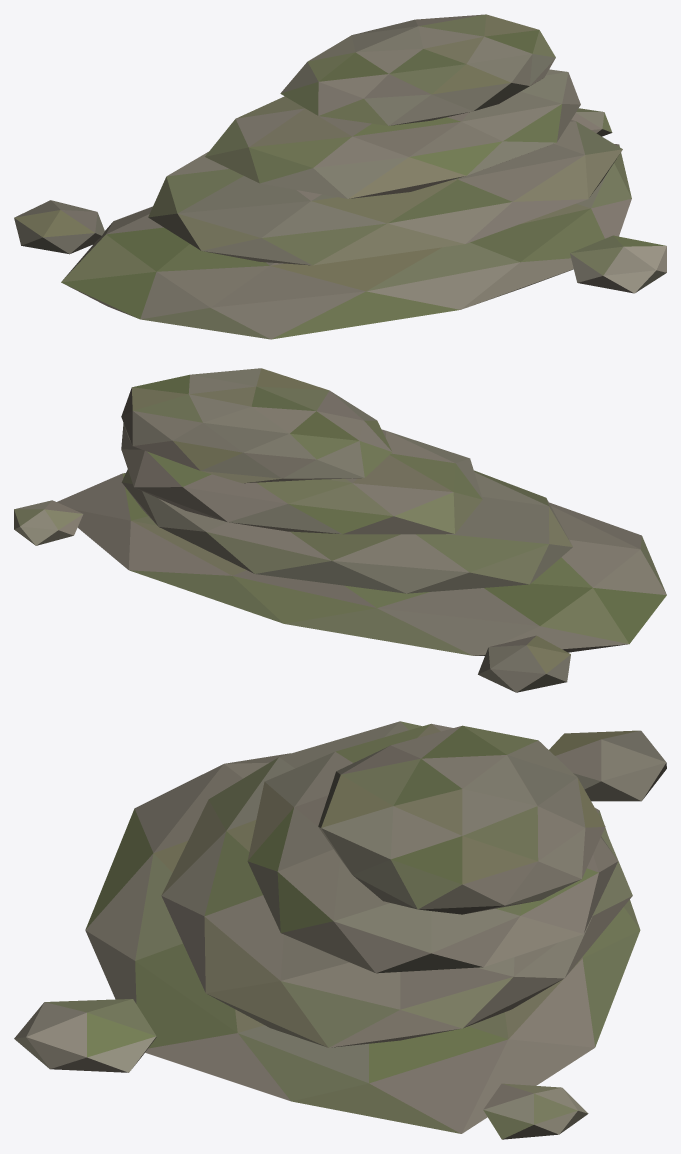
The model's file is env_lime_outcrop.glb.
The picture shows the model from 3 angles, top to bottom: view 1: azimuth 30°, elevation 25°; view 2: azimuth 150°, elevation 25°; view 3: azimuth 270°, elevation 25°; orthographic projection. The views are drawn at different scales.
Parts seen in each view (by area): view 1: env_lime_outcrop; view 2: env_lime_outcrop; view 3: env_lime_outcrop.
Part boxes in pixels (x1,y1,x2,y2): env_lime_outcrop: [14, 14, 666, 339]; env_lime_outcrop: [14, 368, 666, 692]; env_lime_outcrop: [14, 721, 666, 1139].
Size of the model in its own units: 9.19 by 2.41 by 6.29.
